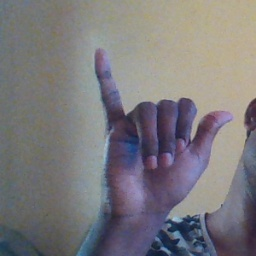J: (88, 46, 237, 212)
